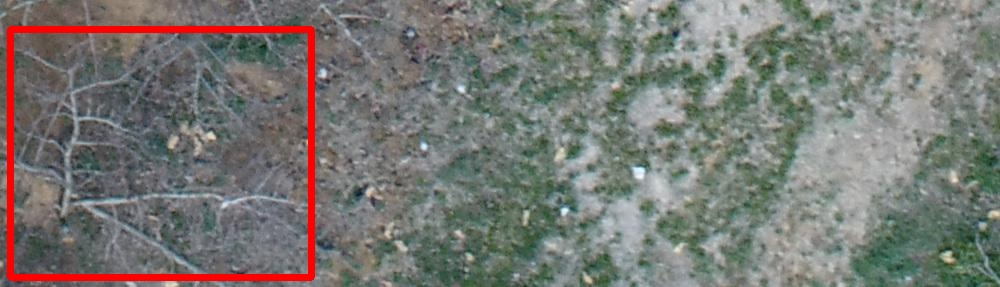apple: (10, 29, 311, 277)
